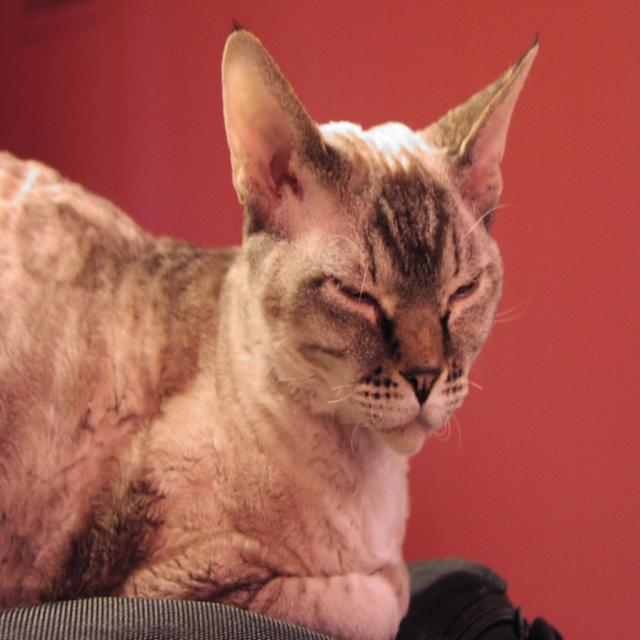Cat: (0, 15, 541, 638)
